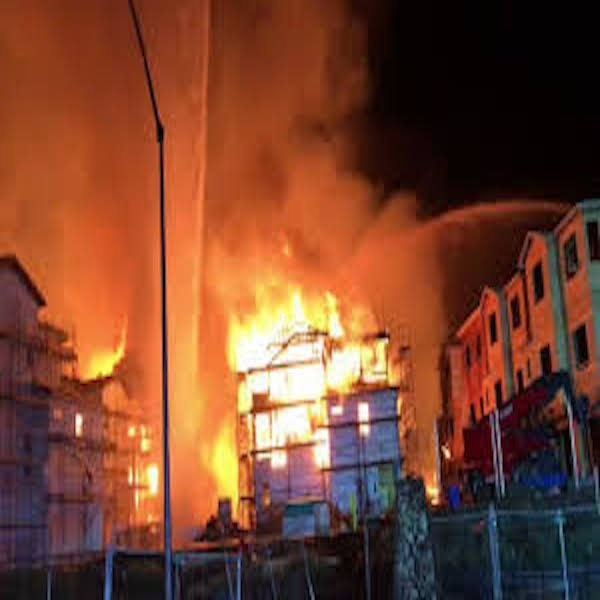fire: (220, 276, 342, 367), (238, 374, 328, 442), (89, 328, 125, 384), (347, 340, 387, 385), (144, 462, 161, 502)
